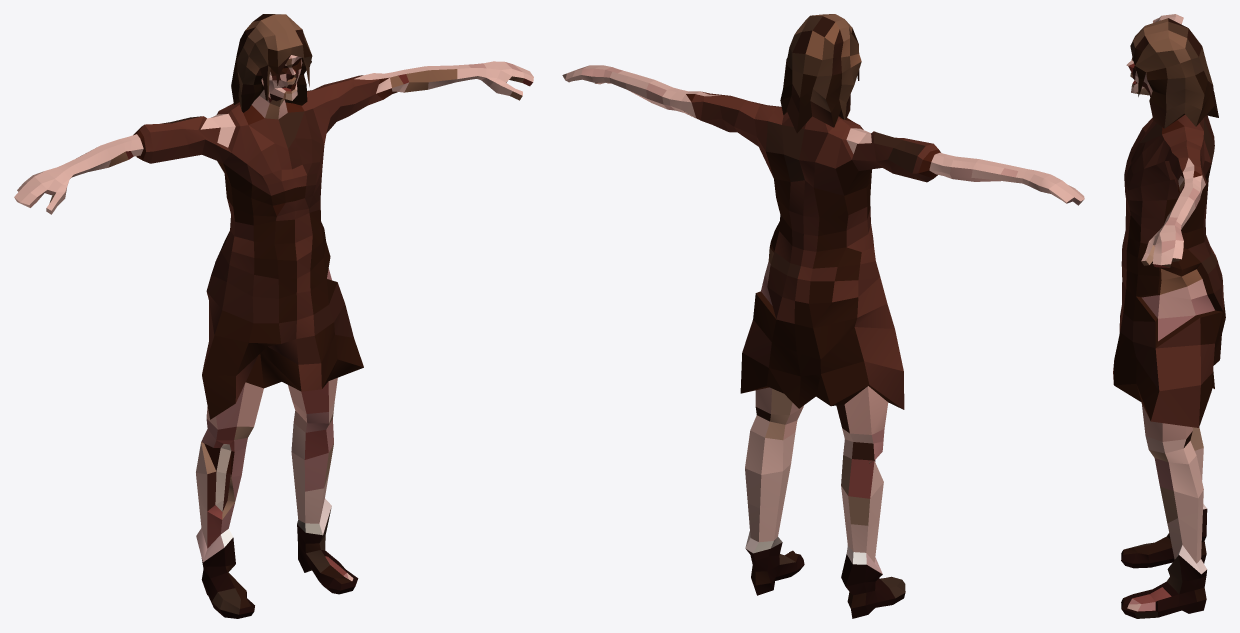
File: zombie_centered.obj
3 renders of one model, left to right at view 1: azimuth 30°, elevation 25°; view 2: azimuth 150°, elevation 25°; view 3: azimuth 270°, elevation 25°, orthographic. The views are drawn at different scales.
Bounding box in the file's own units: 1.88 × 2 × 0.3613.
Materials: 1 (1 with a texture image).
